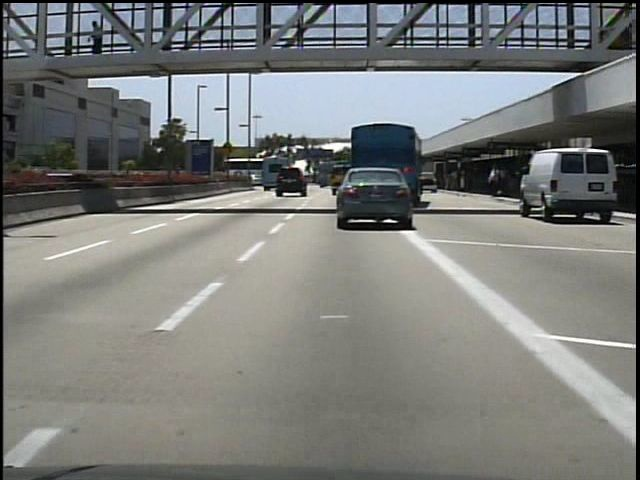person: (89, 20, 112, 67), (489, 163, 505, 199)
